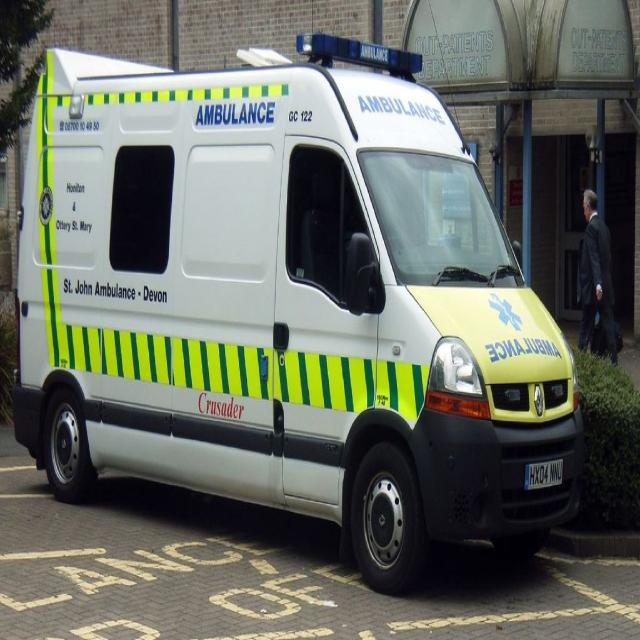Ambulance: (14, 30, 588, 597)
